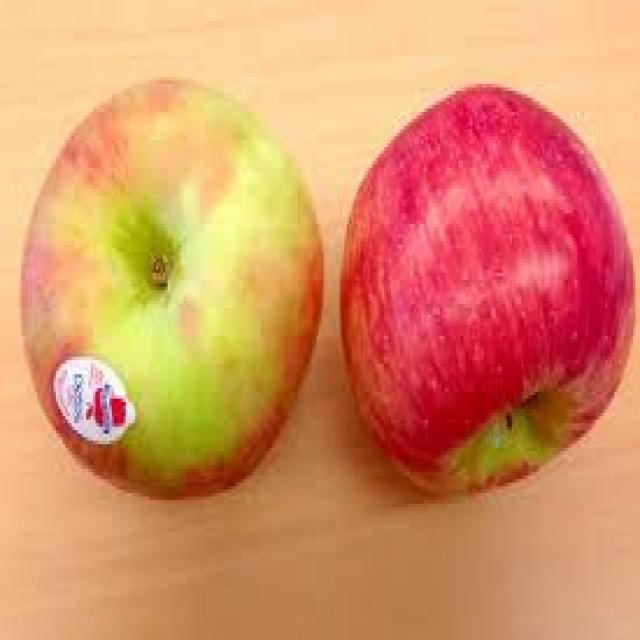apple: (18, 79, 326, 503), (343, 81, 637, 497)
